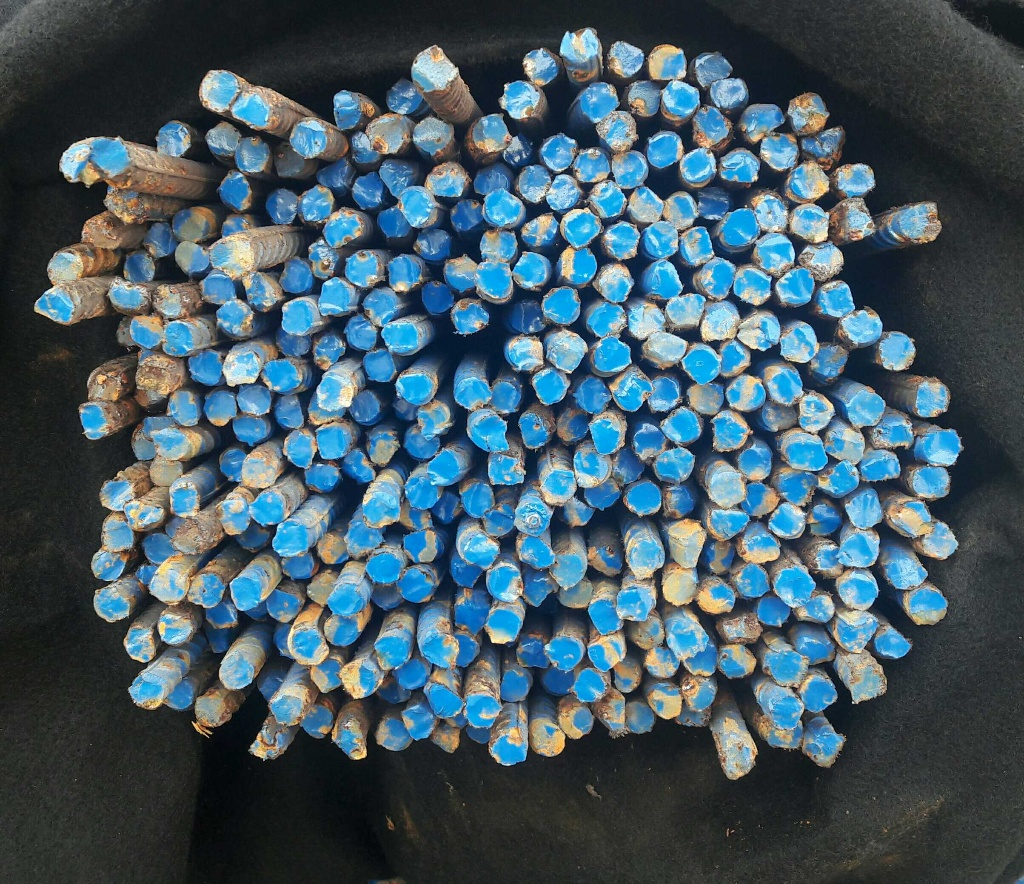dipstick: (58, 136, 132, 187), (411, 47, 459, 91), (666, 519, 707, 569), (207, 236, 254, 276), (799, 241, 843, 283), (545, 330, 587, 373), (232, 88, 275, 129), (136, 353, 180, 393), (613, 367, 653, 411), (200, 68, 240, 111), (103, 184, 147, 223), (367, 114, 408, 154), (561, 209, 602, 249), (775, 566, 815, 607), (900, 201, 941, 241), (380, 160, 421, 199), (242, 272, 281, 312), (469, 413, 509, 452), (541, 285, 580, 325), (473, 113, 512, 153), (580, 82, 619, 122), (744, 104, 784, 143), (501, 80, 542, 118), (595, 262, 633, 303), (597, 111, 638, 149), (787, 92, 825, 133), (738, 313, 780, 350), (692, 108, 731, 147), (589, 414, 627, 454), (700, 301, 740, 339), (837, 615, 877, 653), (756, 233, 794, 273), (398, 186, 435, 227), (559, 244, 596, 285), (892, 499, 933, 536), (324, 208, 362, 247), (780, 323, 818, 362), (719, 208, 758, 246), (148, 568, 188, 605), (842, 308, 882, 345), (752, 192, 789, 232), (791, 203, 828, 243), (839, 198, 875, 239), (554, 494, 597, 528), (701, 257, 735, 300), (720, 742, 758, 780), (361, 491, 400, 528), (520, 567, 557, 606), (768, 650, 807, 687), (790, 162, 829, 199), (412, 118, 452, 154), (315, 159, 355, 195), (654, 447, 694, 483), (707, 471, 747, 507), (35, 289, 76, 324), (632, 421, 666, 463), (216, 301, 253, 339), (451, 298, 488, 336), (483, 190, 521, 227), (574, 450, 611, 488), (825, 423, 862, 461), (847, 390, 885, 427), (427, 161, 466, 197), (315, 373, 354, 409), (290, 629, 329, 665), (541, 133, 577, 172), (592, 337, 631, 373), (662, 407, 701, 443), (879, 332, 915, 371), (886, 554, 927, 588), (776, 471, 817, 505), (364, 430, 401, 467), (426, 681, 463, 718), (522, 47, 559, 84), (628, 540, 665, 577), (611, 150, 648, 187), (801, 676, 838, 713), (761, 132, 798, 169), (662, 80, 699, 117), (289, 122, 327, 158), (352, 171, 388, 209), (386, 78, 424, 114), (521, 212, 559, 248), (844, 493, 882, 529), (544, 636, 583, 671), (741, 528, 780, 563), (874, 415, 913, 450), (110, 280, 150, 314), (363, 290, 400, 326), (312, 333, 348, 370), (487, 567, 524, 603), (509, 297, 546, 333), (588, 302, 625, 338), (923, 520, 959, 557), (733, 269, 770, 305), (171, 207, 209, 242), (272, 521, 310, 556), (397, 566, 435, 601), (575, 376, 610, 414), (662, 192, 697, 230), (727, 377, 765, 412), (806, 733, 844, 768), (848, 665, 886, 700), (909, 589, 947, 624), (837, 163, 875, 198), (610, 447, 644, 486), (782, 439, 826, 469), (719, 148, 759, 181), (796, 632, 837, 664), (83, 216, 125, 247), (205, 121, 241, 157), (340, 661, 376, 697), (514, 500, 550, 536), (513, 252, 549, 288), (546, 174, 582, 210), (557, 703, 593, 739), (663, 482, 699, 518), (681, 149, 717, 185), (822, 461, 858, 497), (777, 268, 813, 304), (695, 53, 731, 89), (283, 430, 318, 467), (588, 541, 625, 576), (923, 429, 960, 464), (299, 184, 333, 222), (345, 252, 383, 286), (318, 277, 352, 315), (560, 27, 598, 61), (628, 616, 666, 650), (718, 644, 756, 678), (838, 576, 876, 610), (219, 171, 252, 210), (373, 637, 412, 670), (374, 718, 414, 750), (720, 612, 761, 643), (645, 332, 686, 363), (404, 423, 440, 458), (485, 608, 521, 643), (541, 469, 576, 505), (476, 262, 512, 297), (480, 228, 516, 263), (626, 481, 662, 516), (707, 510, 749, 540), (629, 303, 664, 339), (604, 222, 639, 258), (769, 503, 805, 538), (817, 281, 853, 316), (188, 573, 225, 607), (584, 476, 621, 510), (681, 676, 718, 710), (648, 131, 682, 168), (647, 260, 681, 297), (683, 349, 720, 383), (875, 623, 912, 657), (915, 380, 949, 417), (710, 78, 747, 112), (649, 45, 686, 79), (462, 480, 495, 518), (697, 581, 735, 614), (198, 273, 237, 305), (398, 373, 437, 405), (454, 378, 493, 410), (681, 227, 713, 266), (839, 534, 878, 566), (124, 501, 165, 531), (584, 639, 625, 669), (711, 416, 746, 451), (768, 368, 803, 403), (188, 349, 222, 385), (267, 587, 301, 623), (465, 533, 499, 569), (519, 412, 553, 448), (616, 587, 652, 621), (416, 398, 449, 435), (158, 612, 195, 645), (591, 180, 624, 217), (913, 465, 950, 498), (327, 583, 365, 615), (647, 375, 679, 413), (413, 230, 452, 261), (261, 360, 300, 391), (474, 164, 513, 195), (860, 450, 900, 480), (156, 122, 190, 157), (216, 499, 250, 534), (423, 633, 457, 668), (556, 407, 590, 442), (589, 599, 624, 633), (742, 481, 777, 515), (629, 187, 663, 222), (644, 221, 679, 255), (453, 598, 487, 633), (608, 42, 643, 76), (223, 351, 259, 384), (315, 423, 348, 459), (93, 588, 129, 621), (508, 336, 544, 369), (647, 686, 683, 719), (735, 564, 771, 597), (693, 186, 729, 219), (275, 325, 312, 357), (403, 531, 440, 563), (488, 453, 525, 485), (811, 342, 848, 374), (519, 165, 550, 203), (642, 646, 680, 677), (86, 370, 126, 399), (236, 137, 270, 171), (142, 223, 176, 257), (310, 658, 344, 692), (444, 256, 478, 290), (388, 256, 421, 291), (249, 491, 284, 524), (171, 521, 206, 554), (124, 627, 157, 662), (129, 677, 164, 710), (426, 451, 459, 486), (533, 370, 568, 403), (576, 146, 609, 181), (662, 573, 697, 606), (267, 188, 299, 224), (345, 314, 377, 350), (153, 284, 189, 316), (47, 251, 83, 283), (131, 314, 167, 346), (169, 390, 201, 426), (154, 428, 190, 460), (91, 548, 127, 580), (687, 382, 723, 414), (800, 396, 832, 432), (380, 322, 418, 352), (308, 239, 337, 278), (242, 454, 276, 487), (405, 476, 439, 509), (532, 722, 565, 756), (575, 669, 608, 703), (274, 141, 306, 176), (362, 350, 397, 382), (204, 391, 236, 426), (219, 656, 254, 688), (324, 615, 359, 647), (392, 657, 427, 689), (519, 535, 554, 567), (281, 257, 312, 293), (79, 404, 110, 440), (541, 664, 577, 695), (667, 294, 704, 324), (123, 250, 156, 283), (229, 577, 262, 610), (466, 695, 499, 728), (551, 555, 584, 588), (101, 517, 135, 549), (174, 242, 210, 272), (490, 734, 526, 764), (557, 578, 593, 608), (232, 412, 269, 441), (797, 593, 834, 622), (402, 706, 434, 739), (431, 492, 464, 524), (237, 384, 271, 415), (350, 389, 381, 423), (195, 696, 229, 727), (452, 197, 483, 231), (517, 636, 551, 667), (738, 449, 772, 480), (770, 697, 804, 728), (627, 81, 658, 115), (251, 728, 286, 758), (145, 532, 177, 564), (274, 394, 305, 427), (612, 659, 643, 692), (704, 541, 735, 574), (163, 322, 193, 356), (271, 695, 305, 725), (490, 380, 520, 414), (757, 595, 791, 625), (367, 551, 402, 580), (484, 503, 513, 538), (721, 340, 750, 375), (334, 91, 361, 128), (283, 302, 314, 334), (624, 701, 656, 732), (808, 504, 840, 535), (501, 668, 531, 701), (423, 280, 453, 313), (503, 133, 533, 166), (304, 462, 339, 490), (768, 721, 803, 749), (303, 705, 333, 737), (317, 533, 349, 563), (378, 208, 411, 237), (170, 483, 199, 516), (101, 481, 133, 510), (150, 457, 183, 485), (131, 425, 157, 460), (337, 728, 367, 758), (814, 546, 843, 577), (219, 448, 246, 481), (166, 678, 194, 708), (603, 696, 624, 735), (206, 601, 236, 628), (455, 632, 478, 667), (431, 728, 459, 753), (221, 214, 252, 235)
